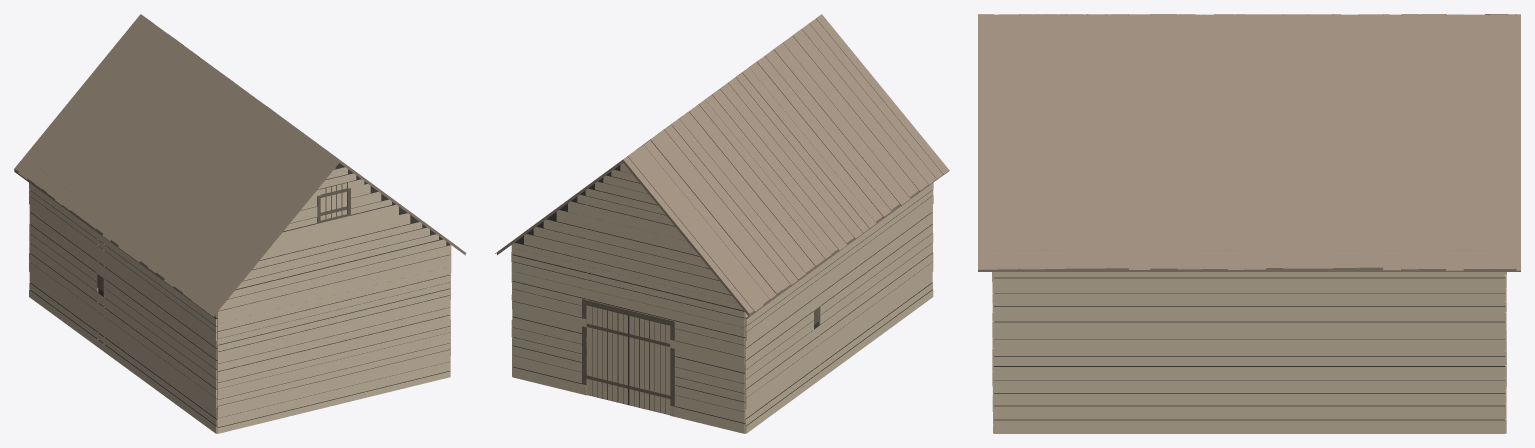
File: recon_1835_north_a2_048__inferred_1835.glb
The picture shows the model from 3 angles, left to right: view 1: azimuth 30°, elevation 25°; view 2: azimuth 150°, elevation 25°; view 3: azimuth 270°, elevation 25°; orthographic projection. The views are drawn at different scales.
Visible parts, largest first — view 1: recon_1835_north_a2_048__inferred_1835; view 2: recon_1835_north_a2_048__inferred_1835; view 3: recon_1835_north_a2_048__inferred_1835.
Part boxes in pixels (x1=…): recon_1835_north_a2_048__inferred_1835: x1=14, y1=14, x2=466, y2=433; recon_1835_north_a2_048__inferred_1835: x1=495, y1=14, x2=949, y2=433; recon_1835_north_a2_048__inferred_1835: x1=978, y1=14, x2=1520, y2=433.
Bounding box in the file's own units: 8.86 × 8.3 × 11.94.
